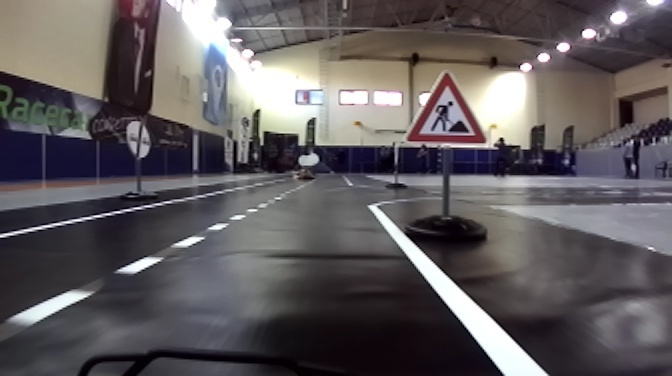yol_yapimi: (401, 77, 487, 146)
